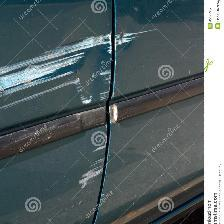door_scratch: (0, 19, 163, 192)
